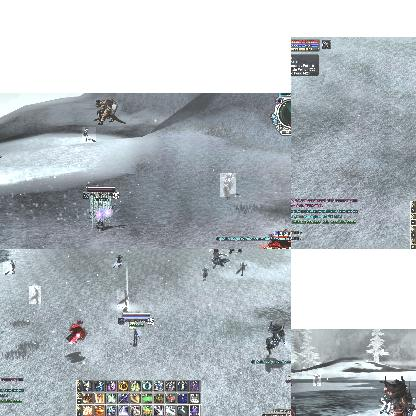caliana: (220, 173, 236, 197), (82, 127, 96, 143), (29, 286, 41, 304), (117, 291, 129, 309), (3, 260, 15, 274), (236, 262, 247, 276), (112, 254, 122, 268), (200, 268, 210, 280), (313, 374, 321, 386)
